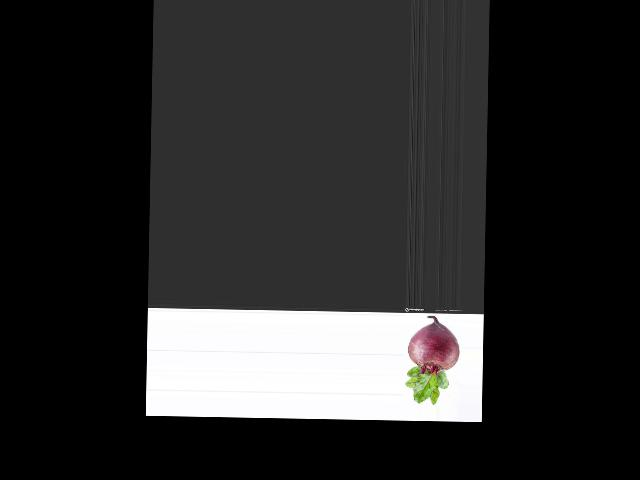beet: (405, 316, 460, 405)
